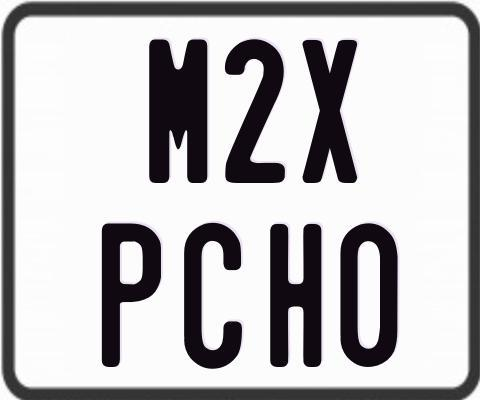0: (339, 220, 401, 370)
2: (224, 36, 286, 183)
C: (183, 222, 241, 368)
H: (267, 221, 319, 366)
M: (147, 37, 208, 184)
P: (100, 222, 163, 367)
X: (300, 40, 357, 186)
